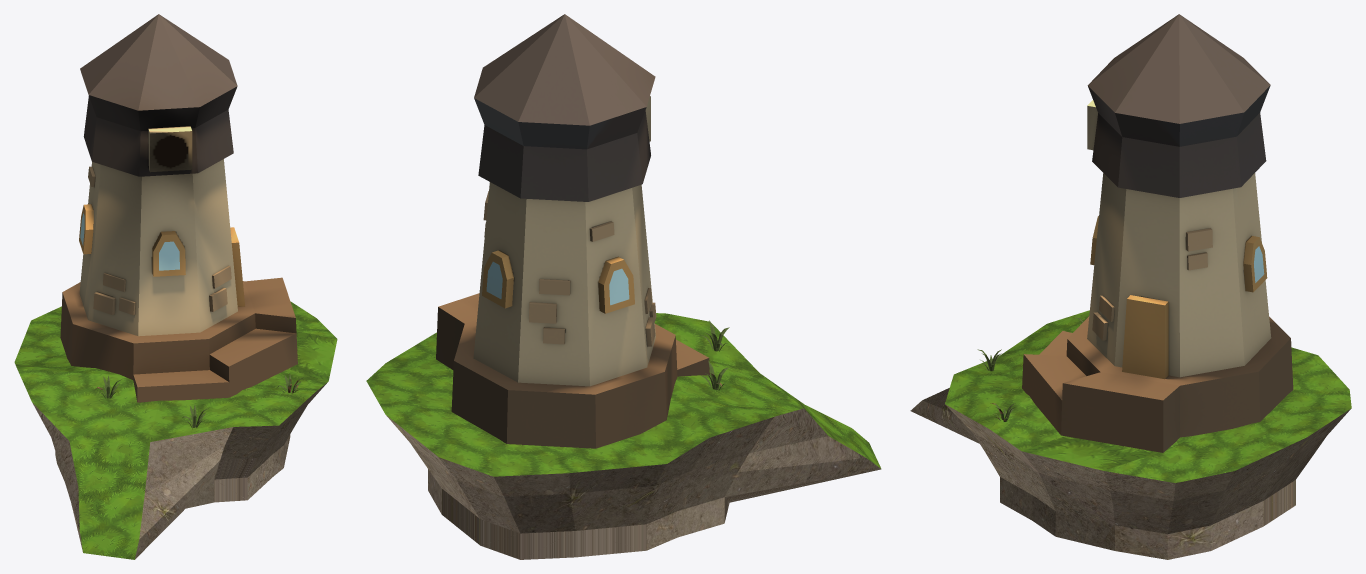
The model's file is windmill.gltf.
3 renders of one model, left to right at view 1: azimuth 30°, elevation 25°; view 2: azimuth 150°, elevation 25°; view 3: azimuth 270°, elevation 25°, orthographic. The views are drawn at different scales.
Parts seen in each view (by area): view 1: windmill; view 2: windmill; view 3: windmill.
Boxes of the visible parts, left/top/right/bottom form: windmill: left=14, top=14, right=337, bottom=559; windmill: left=366, top=14, right=881, bottom=559; windmill: left=910, top=14, right=1351, bottom=559.
Bounding box in the file's own units: 1.21 × 1.51 × 1.24.
4 materials, 4 textured.
